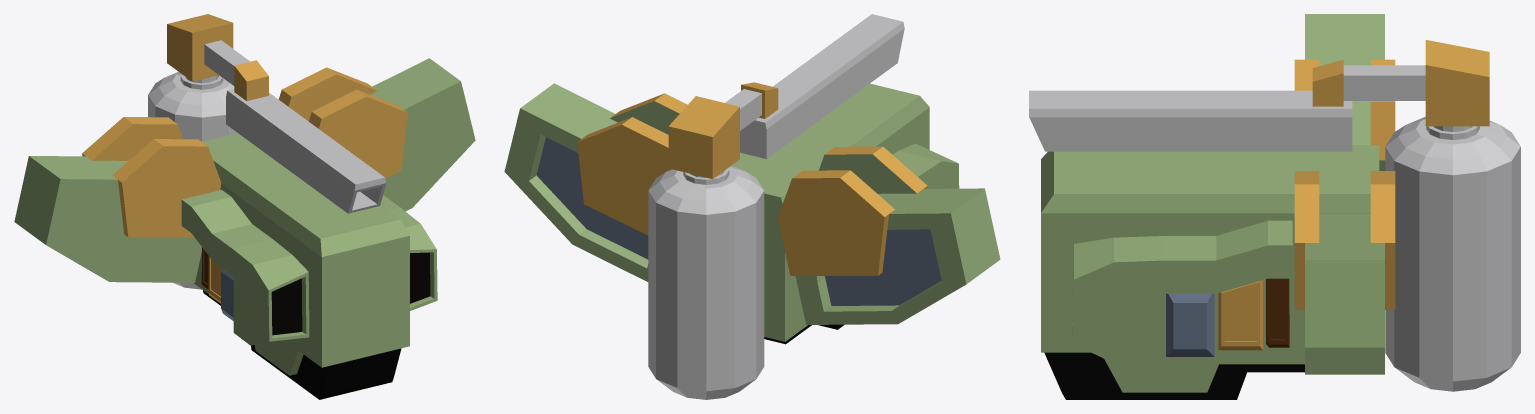
File: Gegner12.fbx
3 renders of one model, left to right at view 1: azimuth 30°, elevation 25°; view 2: azimuth 150°, elevation 25°; view 3: azimuth 270°, elevation 25°, orthographic. The views are drawn at different scales.
Parts seen in each view (by area): view 1: Cube.001; view 2: Cube.001; view 3: Cube.001.
Boxes of the visible parts, box(x1,y1,x2,y2) form: Cube.001: box(14, 14, 475, 399); Cube.001: box(504, 14, 1000, 399); Cube.001: box(1029, 14, 1520, 399).
Bounding box in the file's own units: 749 × 433 × 591.
